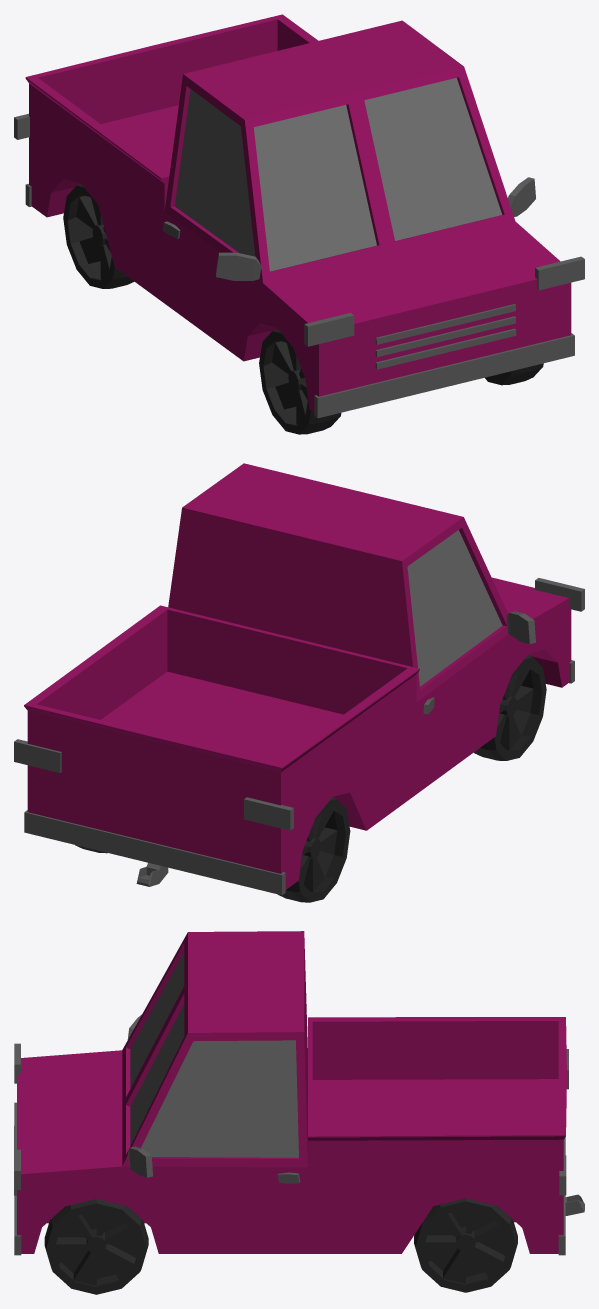
The model's file is Car07.fbx.
3 renders of one model, top to bottom at view 1: azimuth 30°, elevation 25°; view 2: azimuth 150°, elevation 25°; view 3: azimuth 270°, elevation 25°, orthographic. The views are drawn at different scales.
Parts seen in each view (by area): view 1: Car_07; view 2: Car_07; view 3: Car_07.
Boxes of the visible parts, <box> form: Car_07: <box>14,14,584,434</box>; Car_07: <box>14,463,584,902</box>; Car_07: <box>14,931,584,1294</box>.
Size of the model in its own units: 12.19 by 10.06 by 19.96.
